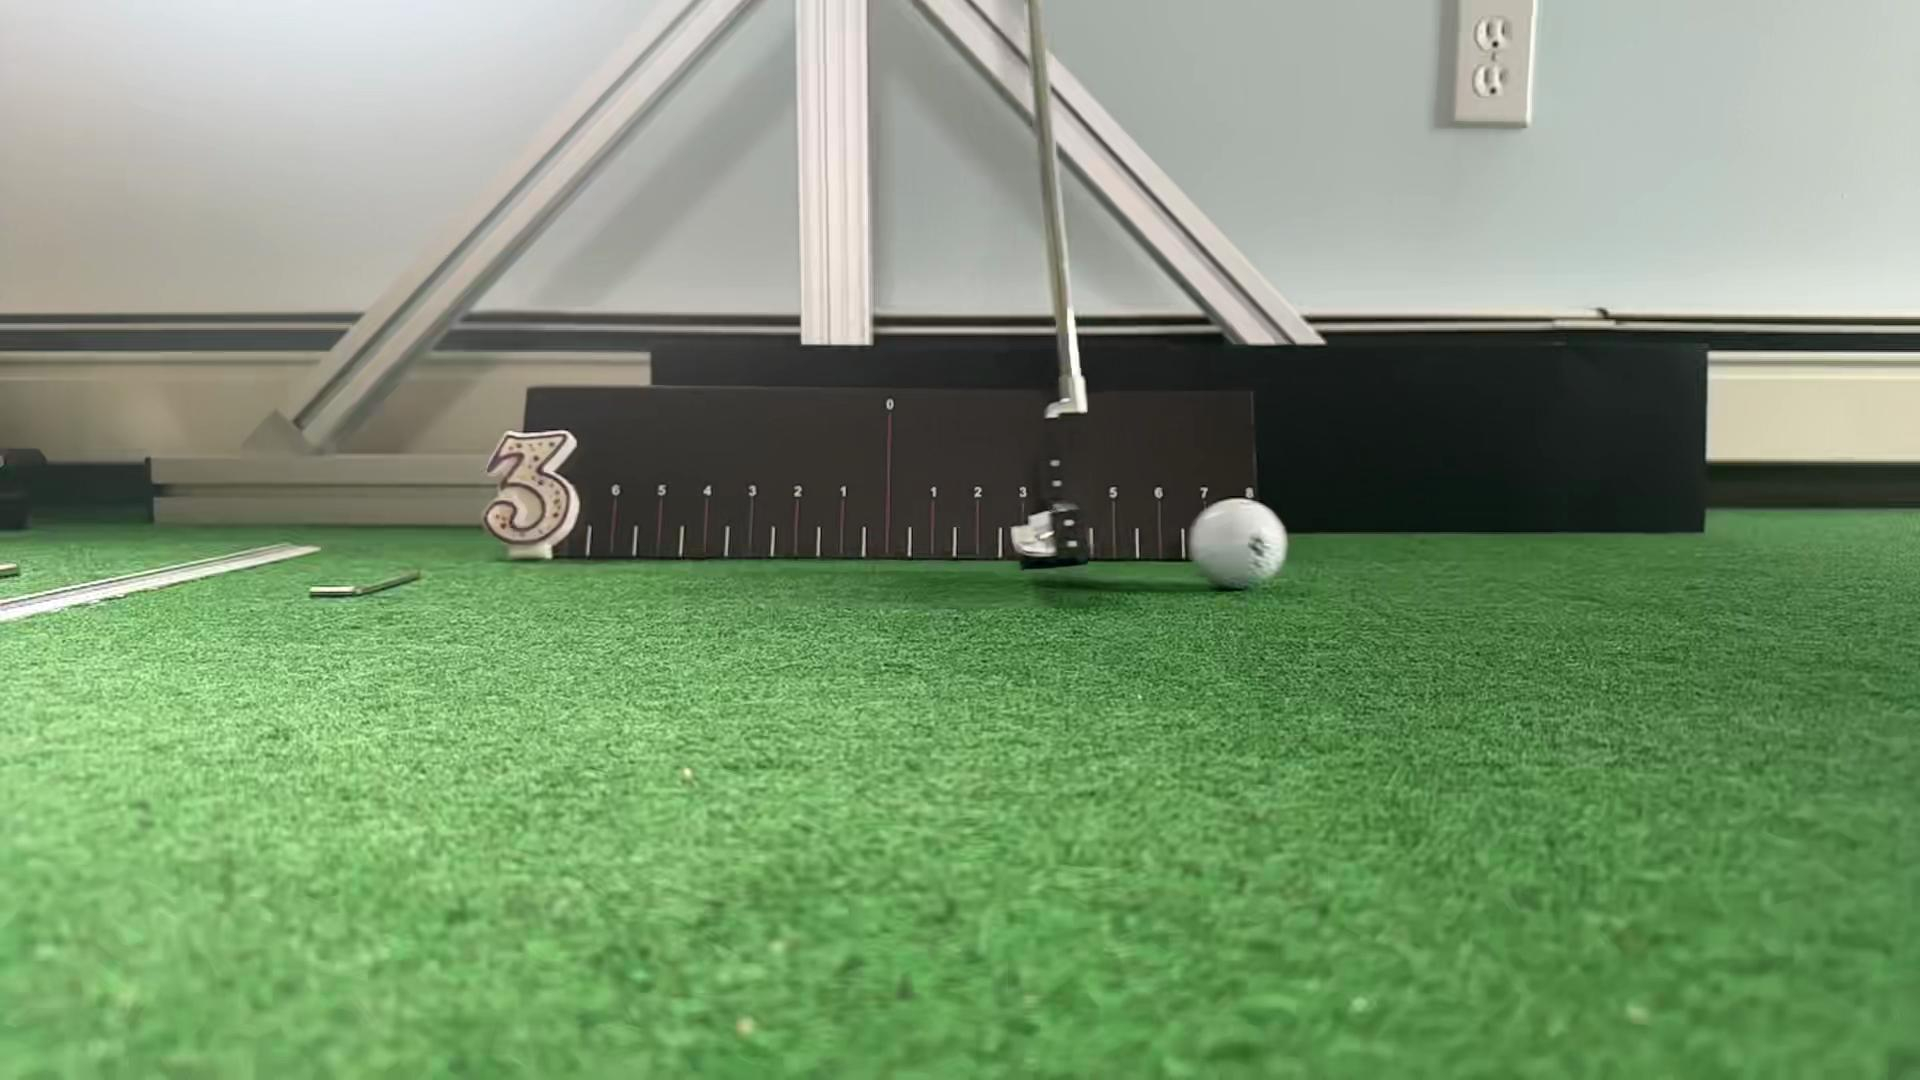golfball: (1189, 499, 1289, 589)
